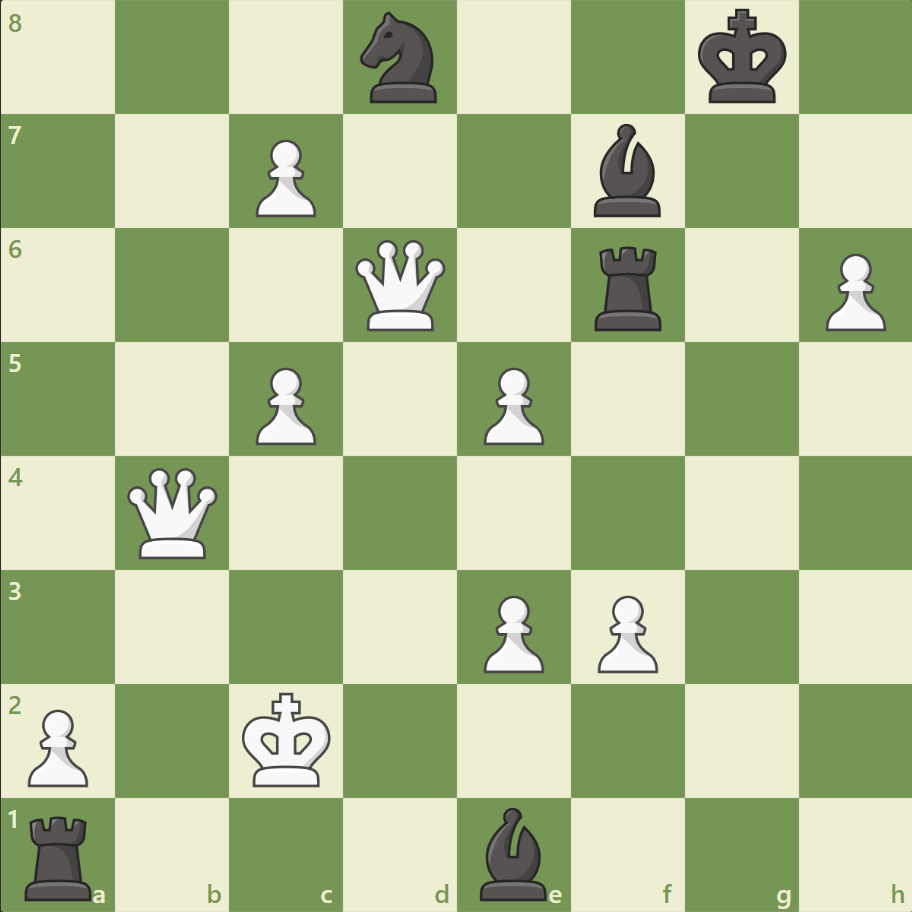K: (238, 685, 338, 793)
P: (247, 132, 322, 223), (247, 359, 322, 450), (474, 359, 549, 450), (474, 586, 549, 677), (20, 700, 95, 791), (815, 246, 889, 337), (588, 586, 662, 677)
Q: (351, 236, 450, 335), (124, 463, 223, 562)
b: (471, 801, 555, 904), (585, 120, 669, 222)
k: (692, 4, 792, 112)
n: (351, 7, 449, 110)
r: (19, 806, 102, 904), (587, 239, 670, 336)
